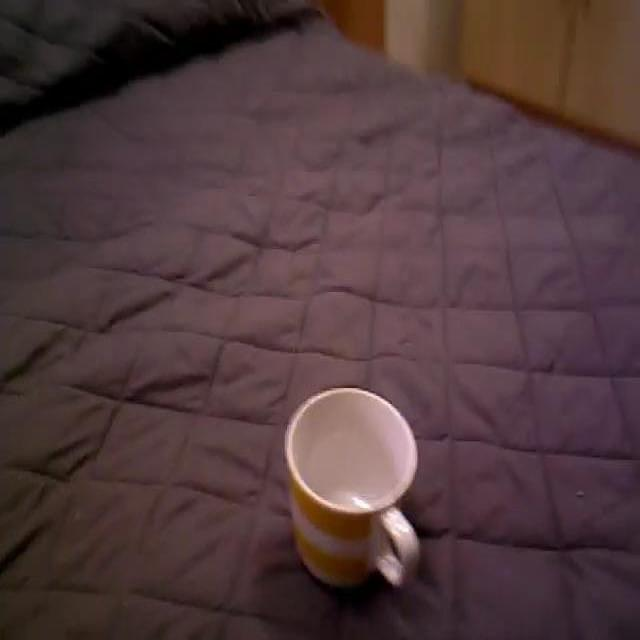cup: (281, 385, 423, 600)
